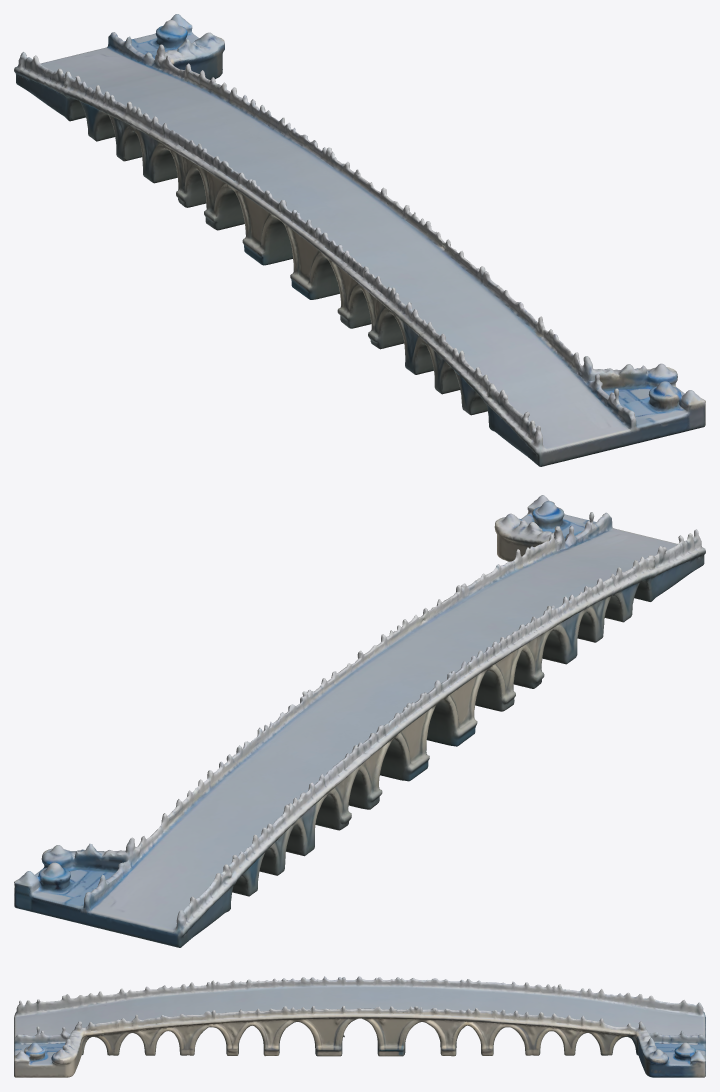
Rendered from seventeen-hole.glb.
3 views of the same model, one above another, from view 1: azimuth 30°, elevation 25°; view 2: azimuth 150°, elevation 25°; view 3: azimuth 270°, elevation 25° (orthographic). The views are drawn at different scales.
Visible parts, largest first — view 1: tripo_node_d3e91e35-9ebb-4b7b-8ddf-250874417326; view 2: tripo_node_d3e91e35-9ebb-4b7b-8ddf-250874417326; view 3: tripo_node_d3e91e35-9ebb-4b7b-8ddf-250874417326.
Boxes of the visible parts, x1,y1,x2,y2 form: tripo_node_d3e91e35-9ebb-4b7b-8ddf-250874417326: [14, 14, 705, 466]; tripo_node_d3e91e35-9ebb-4b7b-8ddf-250874417326: [14, 495, 705, 947]; tripo_node_d3e91e35-9ebb-4b7b-8ddf-250874417326: [14, 976, 705, 1077].
Size of the model in its own units: 0.1923 by 0.0796 by 1.
Materials: 1 (1 with a texture image).
